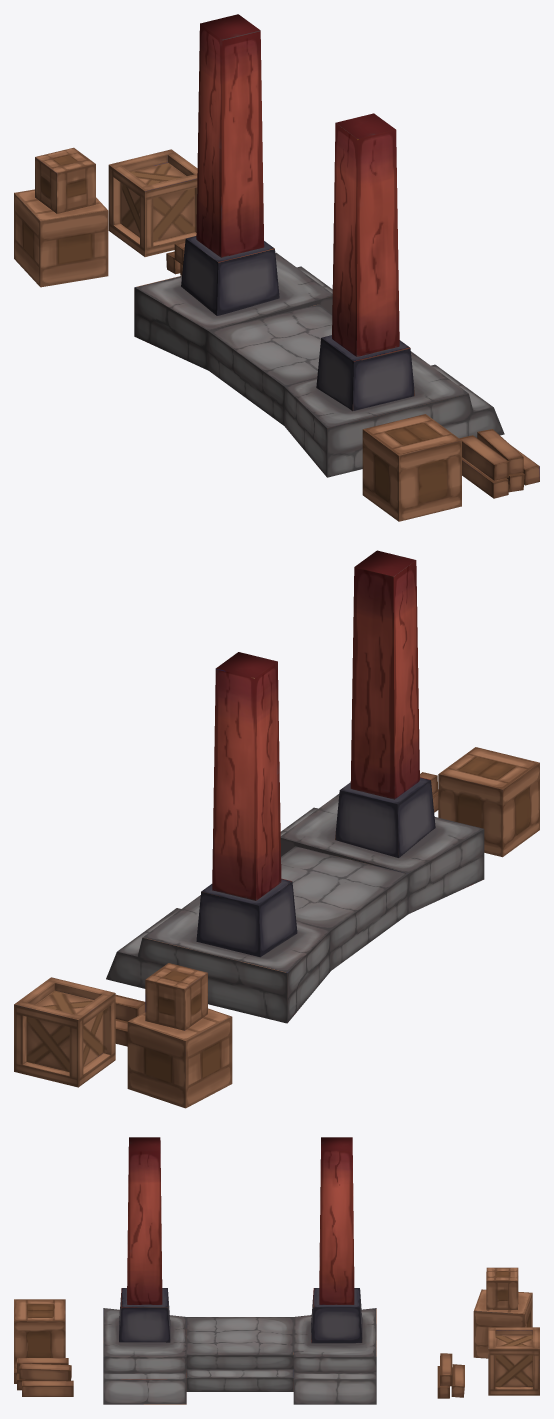
Rendered from china1_lvl.fbx.
3 views of the same model, one above another, from view 1: azimuth 30°, elevation 25°; view 2: azimuth 150°, elevation 25°; view 3: azimuth 270°, elevation 25° (orthographic). The views are drawn at different scales.
Parts seen in each view (by area): view 1: Cube.003, Cube.005, Cube.008, Cube.017, Cube.018, Cube.019, Cube.012, Cube.013, Cube.011; view 2: Cube.003, Cube.005, Cube.017, Cube.018, Cube.008, Cube.019; view 3: Cube.005, Cube.003, Cube.017, Cube.008, Cube.018, Cube.019, Cube.013, Cube.009, Cube.014, Cube.016, Cube.012.
Boxes of the visible parts, x1,y1,x2,y2 form: Cube.003: [181, 14, 414, 411]; Cube.005: [134, 252, 504, 477]; Cube.008: [362, 414, 461, 521]; Cube.017: [108, 149, 197, 256]; Cube.018: [14, 189, 108, 287]; Cube.019: [35, 147, 95, 213]; Cube.012: [459, 435, 509, 480]; Cube.013: [477, 429, 523, 474]; Cube.011: [462, 457, 508, 498]; Cube.003: [196, 550, 435, 957]; Cube.005: [106, 794, 484, 1023]; Cube.017: [14, 977, 115, 1087]; Cube.018: [127, 1008, 232, 1108]; Cube.008: [438, 747, 539, 857]; Cube.019: [145, 963, 207, 1030]; Cube.005: [103, 1308, 376, 1404]; Cube.003: [119, 1137, 362, 1343]; Cube.017: [488, 1327, 539, 1395]; Cube.008: [14, 1299, 65, 1367]; Cube.018: [473, 1289, 532, 1358]; Cube.019: [486, 1267, 518, 1309]; Cube.013: [19, 1363, 71, 1381]; Cube.009: [22, 1380, 73, 1396]; Cube.014: [451, 1364, 464, 1397]; Cube.016: [440, 1353, 452, 1386]; Cube.012: [17, 1358, 68, 1373].
Size of the model in its own units: 627 by 954 by 2040.
